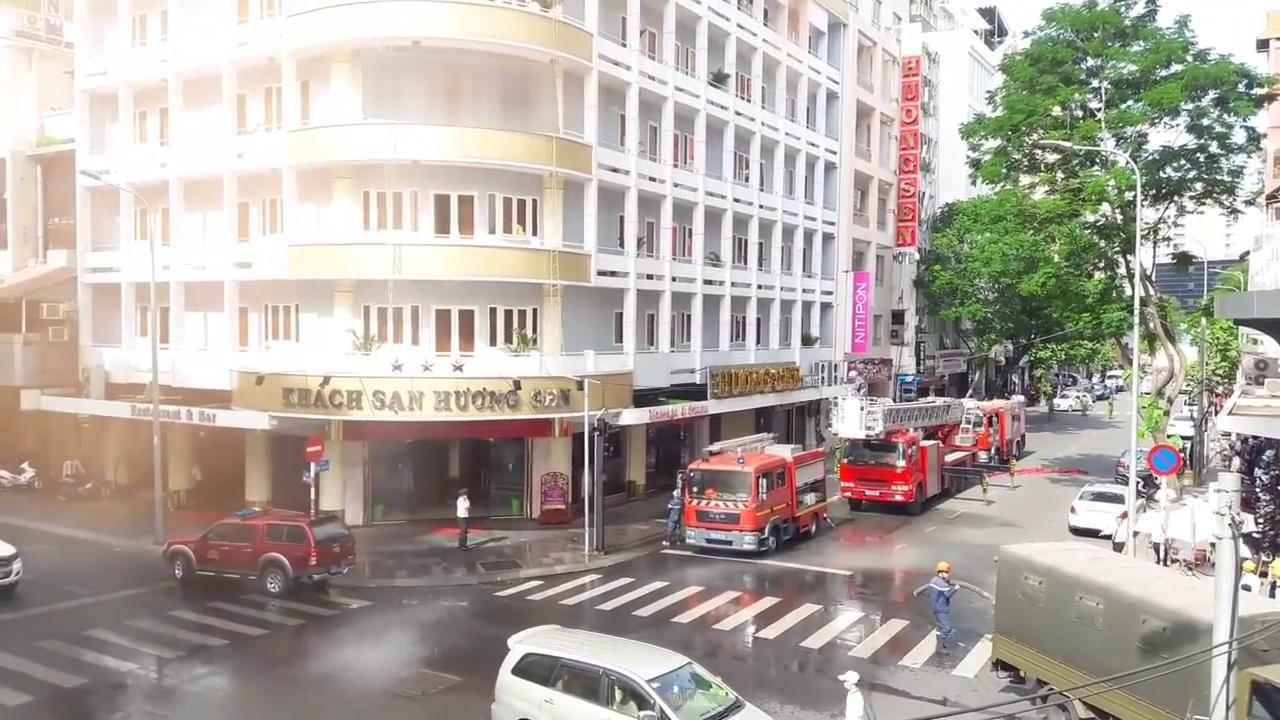xe cuu hoa: (681, 432, 827, 550), (833, 397, 977, 509), (944, 394, 1025, 470)
xe hoi: (491, 622, 771, 720), (162, 505, 353, 591), (1065, 482, 1145, 539)
xe tai: (991, 539, 1280, 720)
